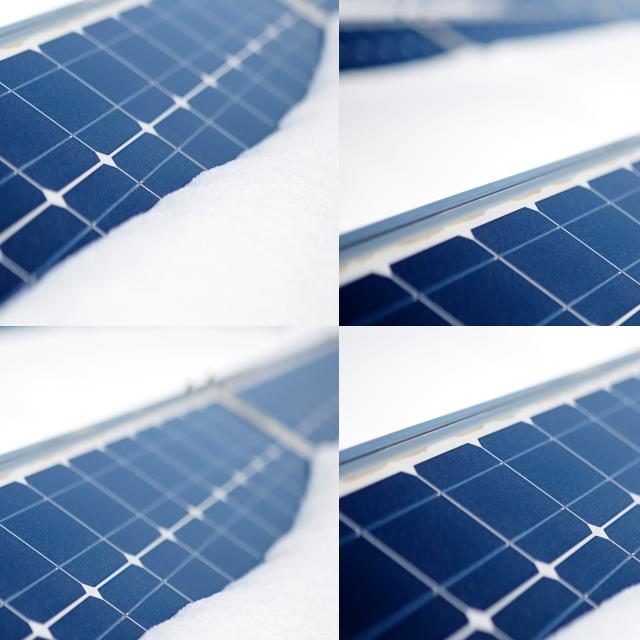hotspot: (0, 0, 24, 12), (0, 0, 21, 11)
panel: (420, 331, 534, 447), (386, 584, 559, 640), (592, 477, 640, 640), (339, 377, 407, 472), (537, 326, 640, 367), (0, 326, 7, 336), (0, 326, 7, 335), (0, 326, 9, 333), (0, 326, 4, 341), (0, 326, 3, 335), (0, 326, 6, 330), (0, 326, 4, 332), (0, 326, 7, 329), (0, 326, 5, 330), (0, 326, 6, 329), (0, 326, 3, 329)
